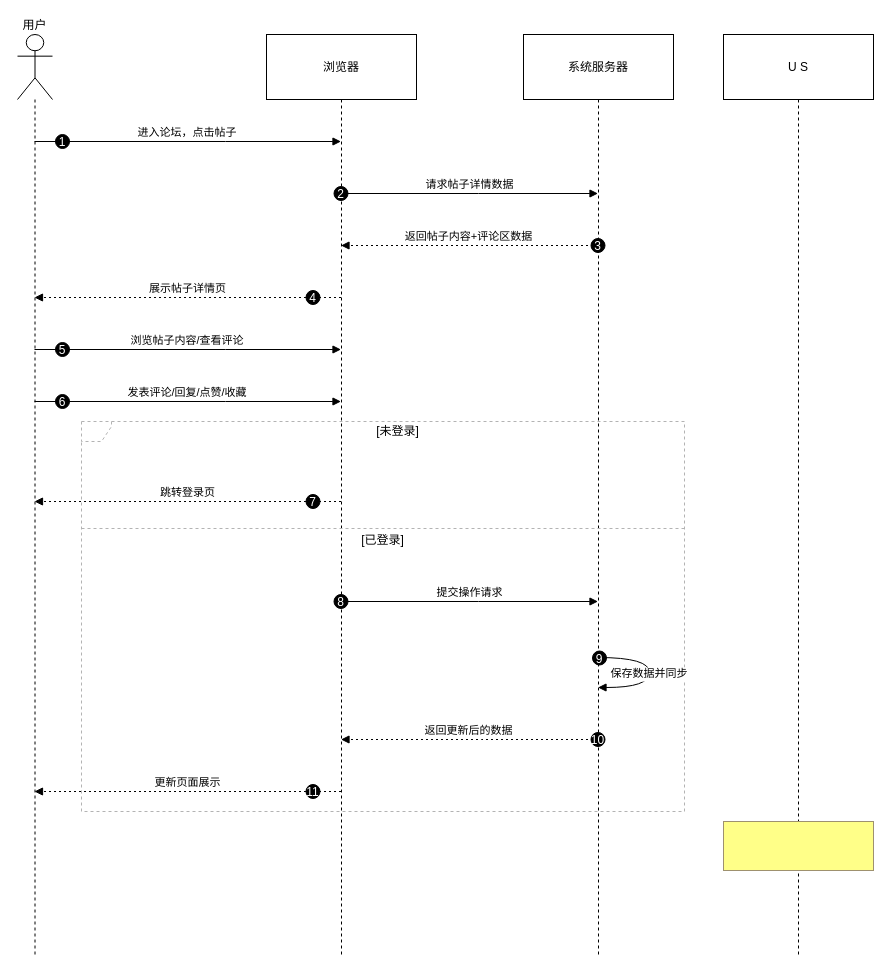
This 891x973 diagram has some shape labels left out. Here are the shapes that lost their labels. From the top down, the centre of each, then its label:
At (x=382, y=616): "alt".
At (x=798, y=845): "帖子交互完成".
